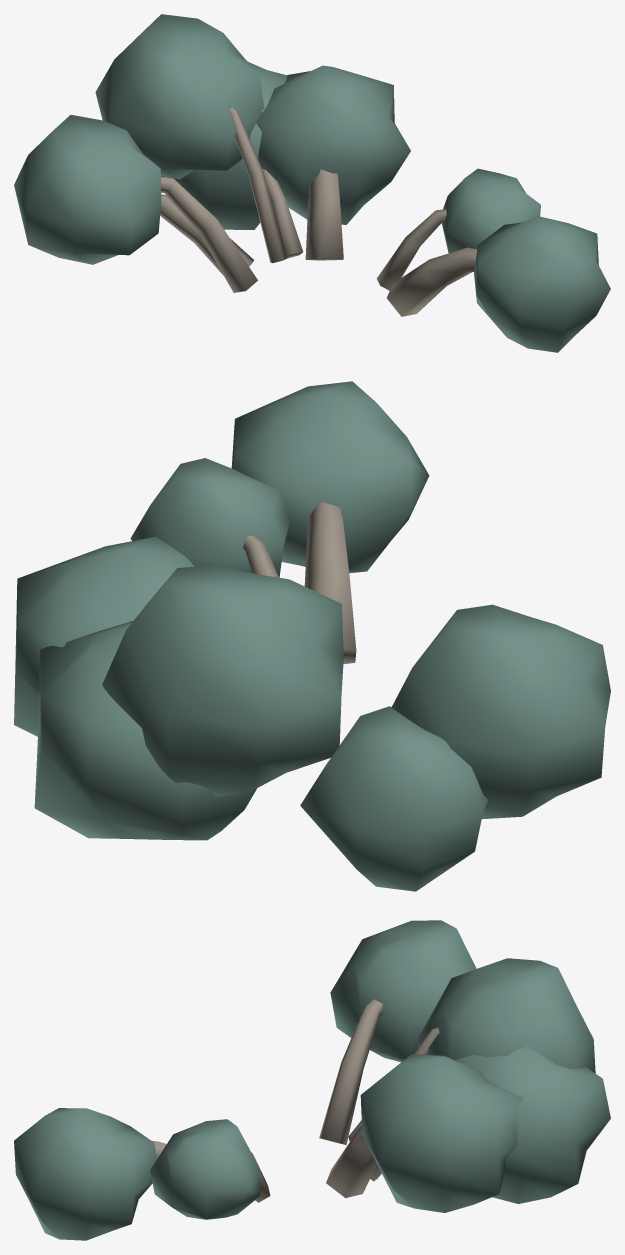
Rendered from alpine-and-arctic-biomes-krummholz-pine-aba60158__20927.glb.
3 views of the same model, one above another, from view 1: azimuth 30°, elevation 25°; view 2: azimuth 150°, elevation 25°; view 3: azimuth 270°, elevation 25° (orthographic). The views are drawn at different scales.
Parts seen in each view (by area): view 1: krummholz-pine; view 2: krummholz-pine; view 3: krummholz-pine.
Boxes of the visible parts, left/top/right/bottom form: krummholz-pine: left=14, top=14, right=610, bottom=352; krummholz-pine: left=14, top=381, right=610, bottom=891; krummholz-pine: left=14, top=920, right=610, bottom=1240.
Size of the model in its own units: 2.85 by 1.29 by 3.49.
